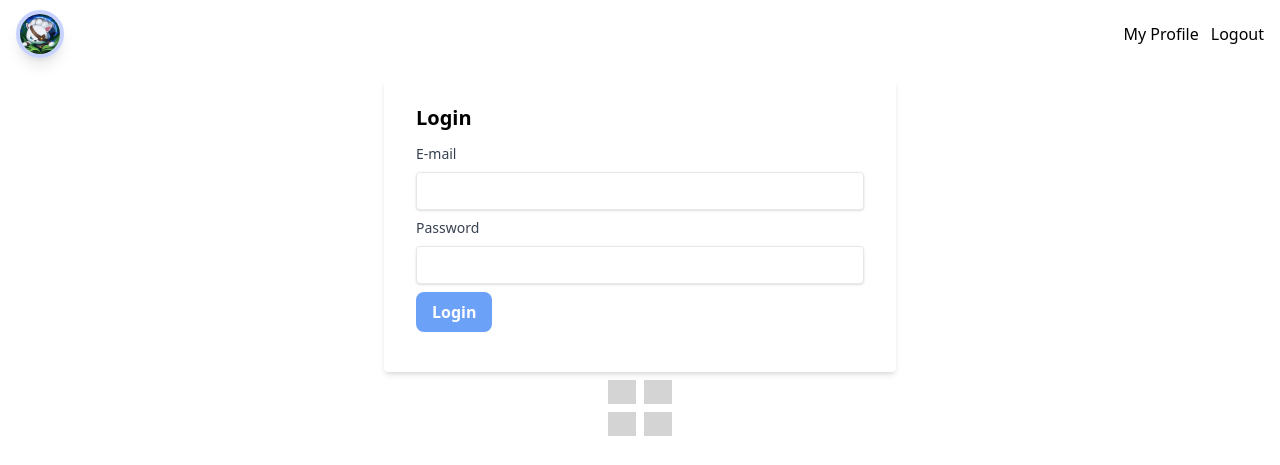
App › Logout › should displays login when click on Logout link
This screenshot has width=1280, height=465.
Type "admin@localhost" into the field labelled "E-mail".
click(640, 191); type("admin@localhost")  # box [416, 172, 864, 210]
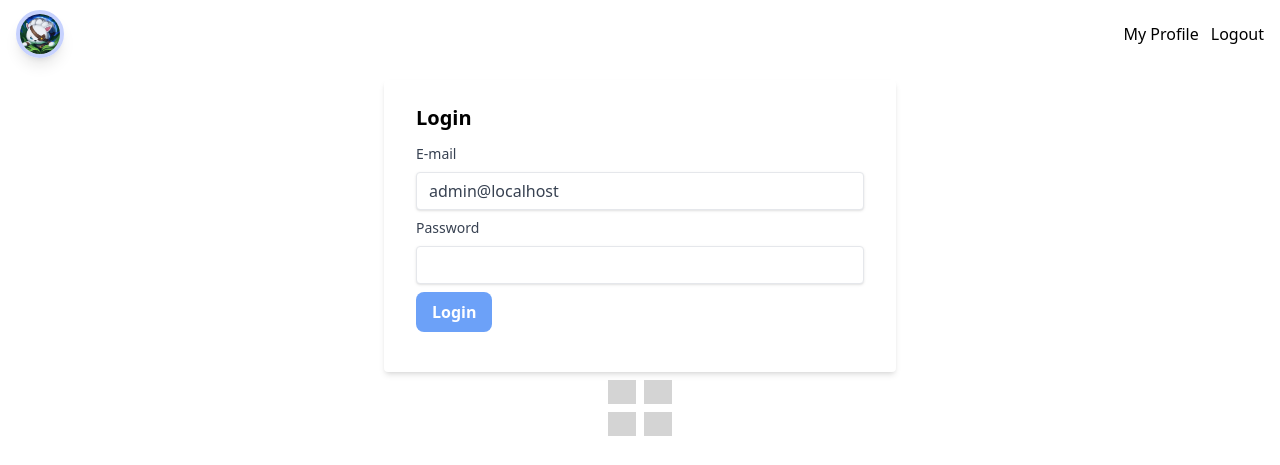
Type "admin" into the password field labelled "Password".
click(640, 265); type("admin")  # box [416, 246, 864, 284]
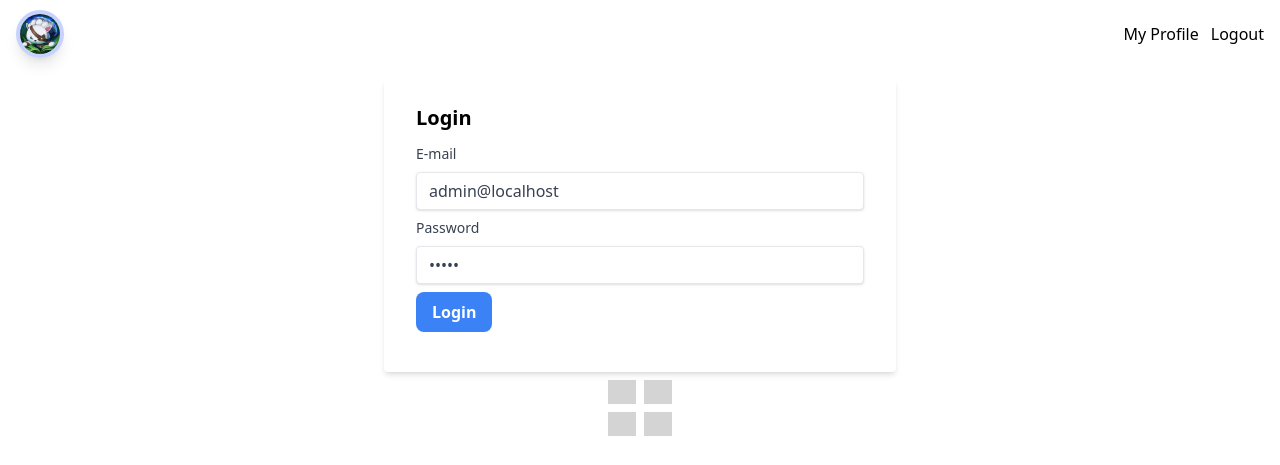
Click the button "Login".
click(454, 312)  # box [416, 292, 492, 332]
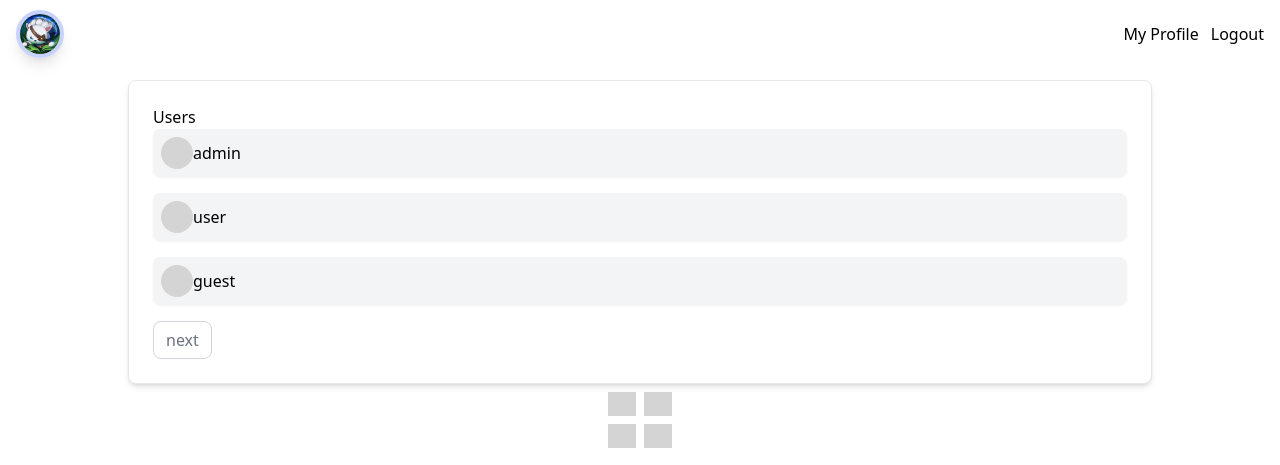
Click the link "Logout".
click(1237, 34)  # box [1211, 22, 1264, 46]
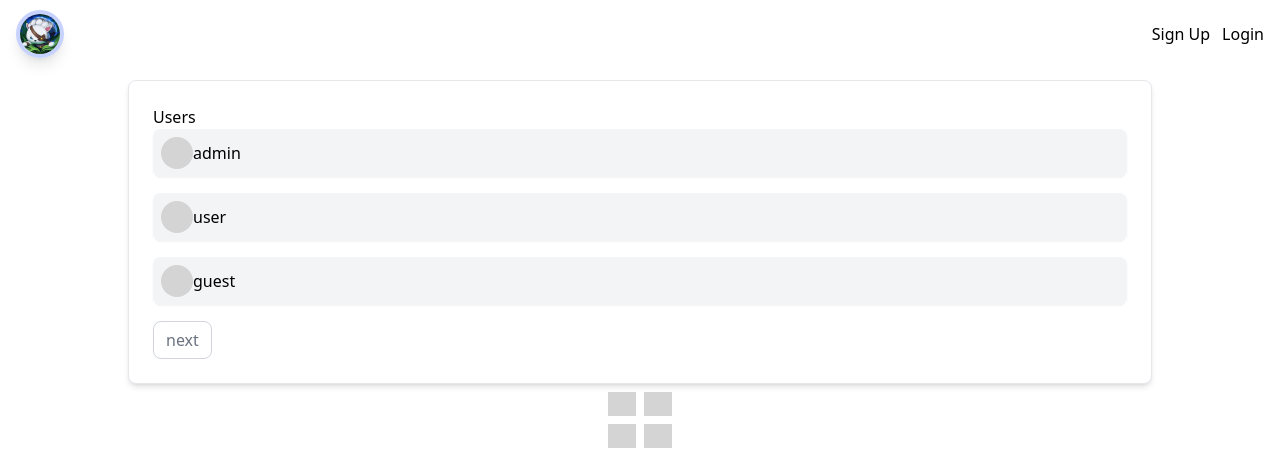
Expected: the link "Login" is shown, [1222, 22, 1264, 46]
